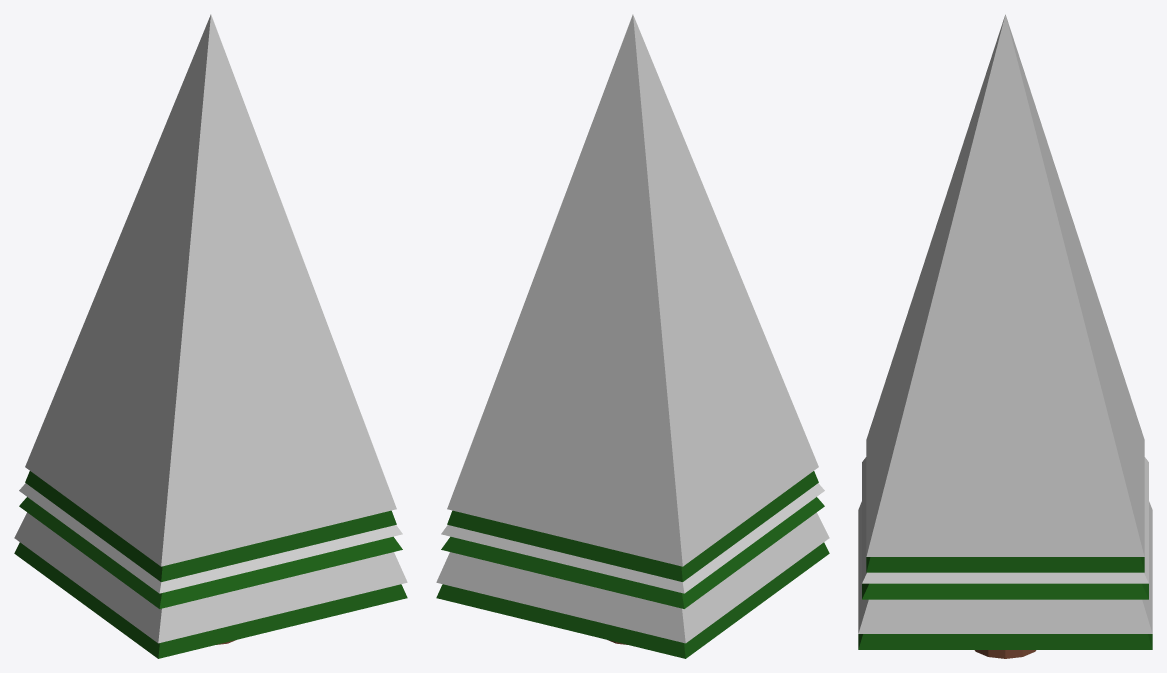
Rendered from Tree_34_winter_mat.fbx.
3 renders of one model, left to right at view 1: azimuth 30°, elevation 25°; view 2: azimuth 150°, elevation 25°; view 3: azimuth 270°, elevation 25°, orthographic. The views are drawn at different scales.
Parts seen in each view (by area): view 1: Tree_34_winter_mat; view 2: Tree_34_winter_mat; view 3: Tree_34_winter_mat.
Boxes of the visible parts, x1=… form: Tree_34_winter_mat: x1=14, y1=14, x2=407, y2=658; Tree_34_winter_mat: x1=436, y1=14, x2=829, y2=658; Tree_34_winter_mat: x1=858, y1=14, x2=1152, y2=658.
Size of the model in its own units: 83.78 by 198 by 83.78.
